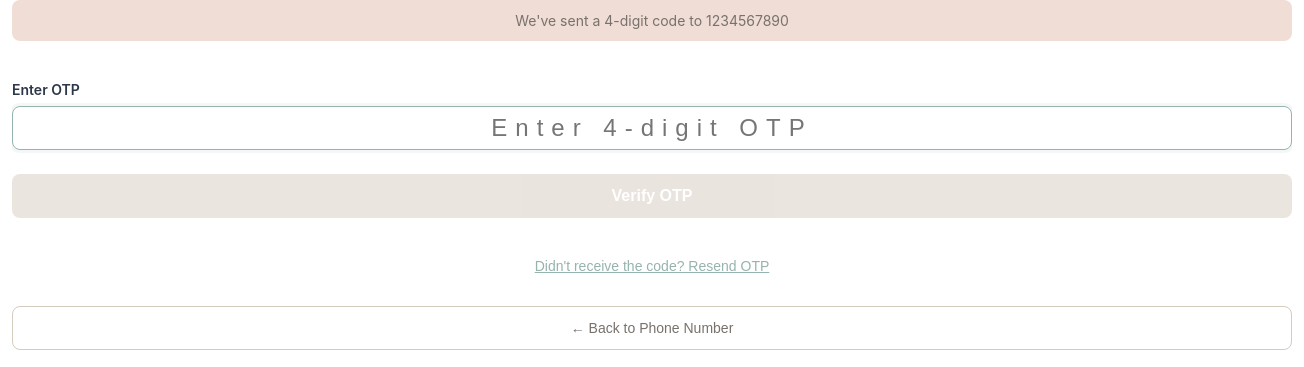
Test: OTPForm Component › should only allow numeric input
Step 1. Type "abc1def2" into the field labelled "Enter OTP" → x=652, y=128, box [12,106,1292,150]
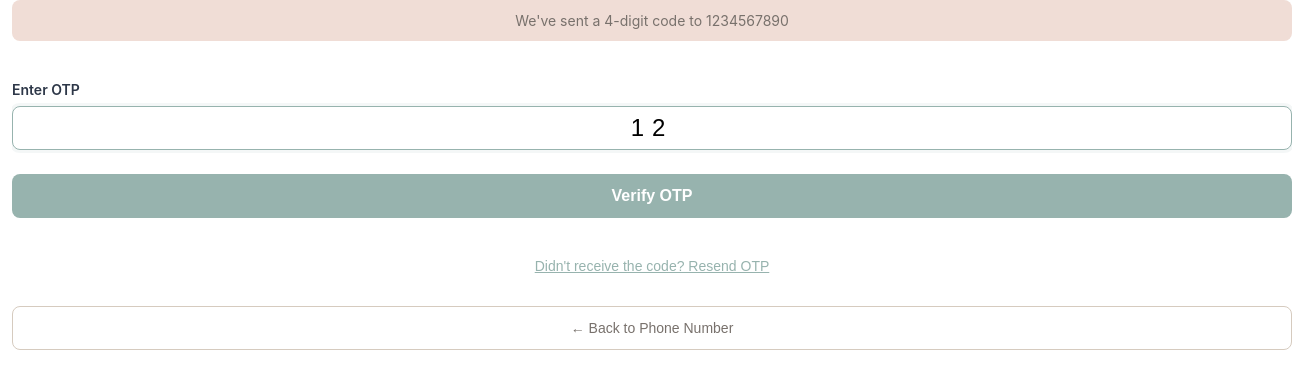
Now the field labelled "Enter OTP" holds "12", box [12,106,1292,150]
